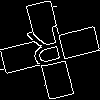R: (25, 25, 72, 78)
